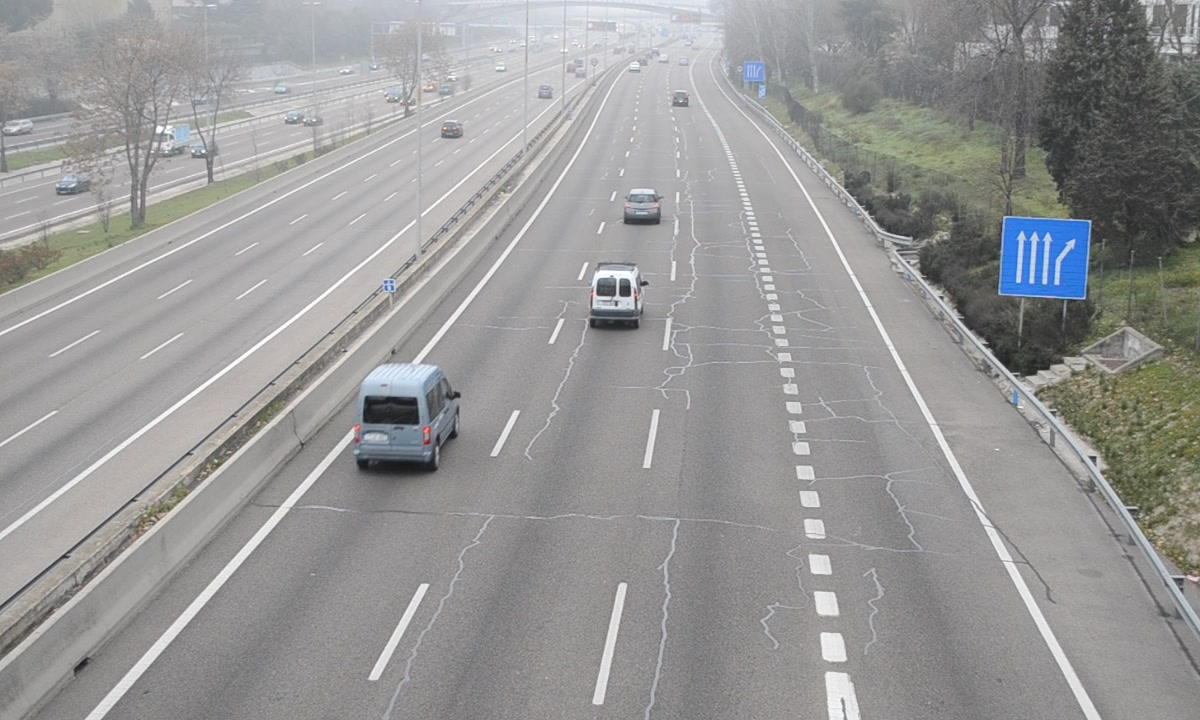car: (623, 188, 663, 226)
van: (354, 364, 457, 467), (588, 266, 643, 326)
